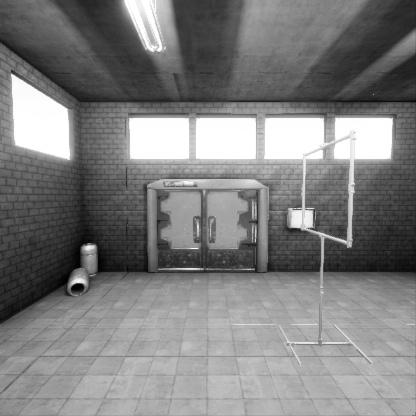gate: (301, 174, 357, 289)
